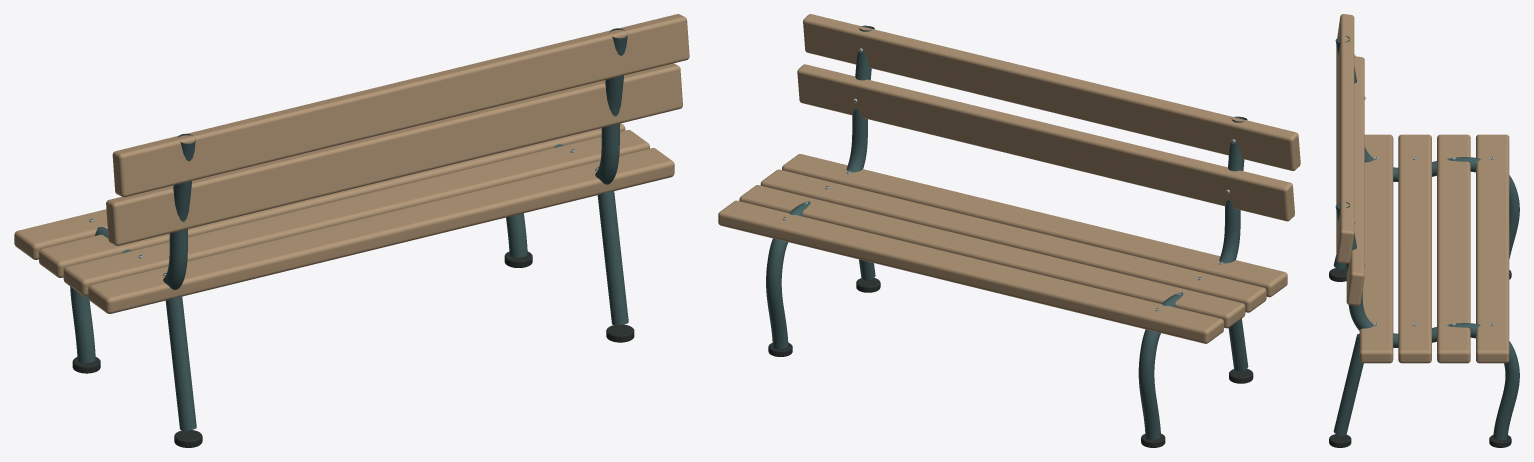
The model's file is campus_bench.glb.
The picture shows the model from 3 angles, left to right: view 1: azimuth 30°, elevation 25°; view 2: azimuth 150°, elevation 25°; view 3: azimuth 270°, elevation 25°; orthographic projection. The views are drawn at different scales.
Parts seen in each view (by area): view 1: Rounded back timber.001, Rounded back timber, Rounded seat timber, Rounded seat timber.001, Rounded seat timber.002, Curved cast support, Curved cast support.001, Rear foot support, Rear foot support.001, Rounded seat timber.003; view 2: Rounded back timber, Rounded back timber.001, Rounded seat timber.003, Rounded seat timber.001, Rounded seat timber, Rounded seat timber.002, Curved cast support, Curved cast support.001, Rear foot support; view 3: Rounded seat timber.001, Rounded seat timber.003, Rounded seat timber.002, Rounded seat timber, Rounded back timber.001, Rounded back timber, Curved cast support.001, Rear foot support.001, Curved cast support, Quiet foot.002, Quiet foot, Quiet foot.003.
Boxes of the visible parts, box(x1,y1,x2,y2) form: Rounded back timber.001: box(112, 14, 689, 197); Rounded back timber: box(106, 63, 682, 245); Rounded seat timber: box(88, 148, 674, 313); Rounded seat timber.001: box(63, 130, 649, 295); Rounded seat timber.002: box(39, 123, 625, 277); Curved cast support: box(70, 133, 195, 363); Curved cast support.001: box(506, 28, 627, 257); Rear foot support: box(165, 295, 196, 430); Rear foot support.001: box(597, 190, 628, 325); Rounded seat timber.003: box(14, 209, 107, 259); Rounded back timber: box(797, 64, 1294, 221); Rounded back timber.001: box(803, 14, 1300, 170); Rounded seat timber.003: box(718, 200, 1223, 343); Rounded seat timber.001: box(760, 169, 1266, 312); Rounded seat timber: box(782, 154, 1287, 297); Rounded seat timber.002: box(739, 185, 1245, 328); Curved cast support: box(1138, 116, 1247, 439); Curved cast support.001: box(766, 25, 874, 349); Rear foot support: box(1228, 318, 1248, 371); Rounded seat timber.001: box(1398, 134, 1431, 363); Rounded seat timber.003: box(1476, 134, 1509, 363); Rounded seat timber.002: box(1437, 134, 1470, 363); Rounded seat timber: box(1359, 134, 1393, 363); Rounded back timber.001: box(1336, 14, 1354, 263); Rounded back timber: box(1346, 56, 1364, 305); Curved cast support.001: box(1335, 202, 1519, 440); Rear foot support.001: box(1333, 333, 1363, 435); Curved cast support: box(1335, 36, 1519, 258); Quiet foot.002: box(1329, 434, 1351, 447); Quiet foot: box(1329, 268, 1346, 281); Quiet foot.003: box(1489, 435, 1511, 447).
Size of the model in its own units: 2 by 1.02 by 0.7384.
